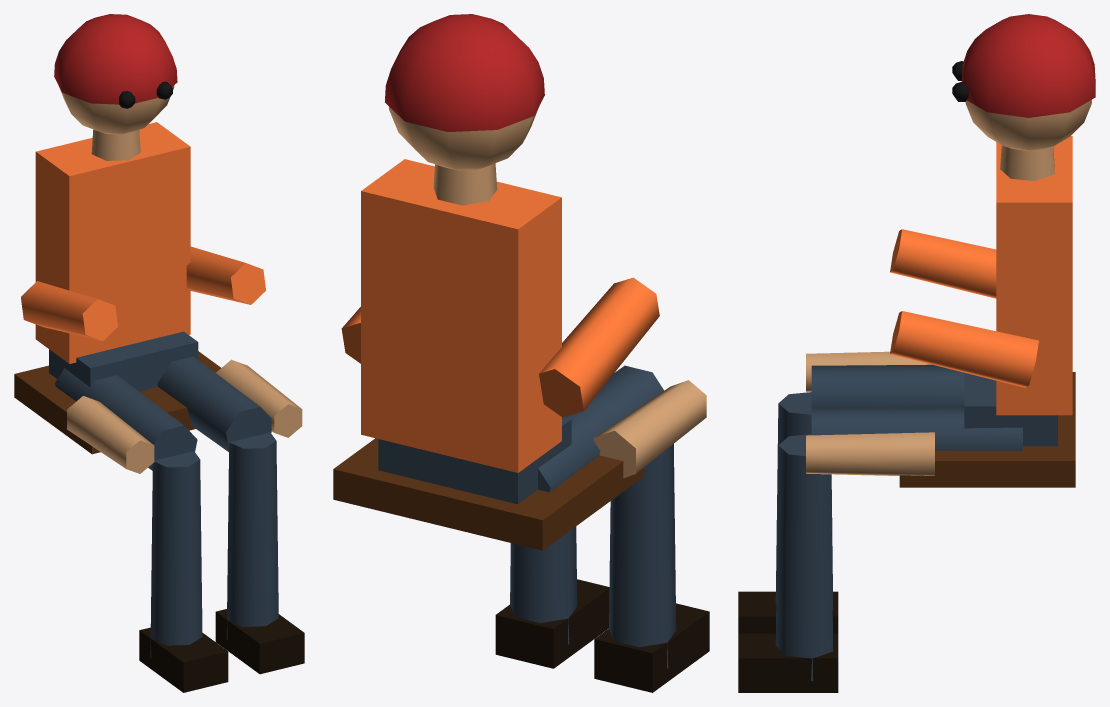
Rendered from crowd-seated-02.glb.
The picture shows the model from 3 angles, left to right: view 1: azimuth 30°, elevation 25°; view 2: azimuth 150°, elevation 25°; view 3: azimuth 270°, elevation 25°; orthographic projection. The views are drawn at different scales.
Parts seen in each view (by area): view 1: Torso, Left Shin, Right Shin, Hair Cap, Right Thigh, Left Thigh, Hips, Left Upper Arm, Left Shoe, Right Shoe, Left Lower Arm, Bench Seat (+4 smaller); view 2: Torso, Hair Cap, Bench Seat, Left Shin, Left Upper Arm, Hips, Left Shoe, Right Shoe, Left Lower Arm, Right Shin, Left Thigh, Head (+2 smaller); view 3: Torso, Right Shin, Hair Cap, Right Upper Arm, Bench Seat, Left Thigh, Right Thigh, Right Lower Arm, Left Upper Arm, Right Shoe, Head, Hips (+4 smaller).
Part boxes in pixels (x1,y1,x2,y2): Torso: (35,122,190,363); Left Shin: (150,451,202,658); Right Shin: (226,432,278,639); Hair Cap: (54,14,177,104); Right Thigh: (157,356,271,451); Left Thigh: (55,368,197,470); Hips: (49,331,198,391); Left Upper Arm: (21,281,117,340); Left Shoe: (139,627,228,692); Right Shoe: (215,609,304,674); Left Lower Arm: (67,396,154,473); Bench Seat: (14,351,220,454); Torso: (361,159,561,472); Hair Cap: (385,14,544,131); Bench Seat: (333,438,643,550); Left Shin: (609,444,676,668); Left Upper Arm: (539,277,659,417); Hips: (378,417,571,504); Left Shoe: (594,603,709,692); Right Shoe: (495,579,609,668); Left Lower Arm: (593,380,706,478); Right Shin: (510,526,577,644); Left Thigh: (538,365,663,492); Head: (389,107,538,170); Torso: (996,136,1072,415); Right Shin: (775,434,832,681); Hair Cap: (962,14,1095,117); Right Upper Arm: (890,311,1038,387); Bench Seat: (899,372,1075,487); Left Thigh: (811,364,964,407); Right Thigh: (811,406,1022,450); Right Lower Arm: (806,432,934,475); Left Upper Arm: (890,229,996,298); Right Shoe: (738,633,838,692); Head: (965,99,1091,151); Hips: (964,372,1057,446).
Size of the model in its own units: 0.4097 by 1.2 by 0.6089.
